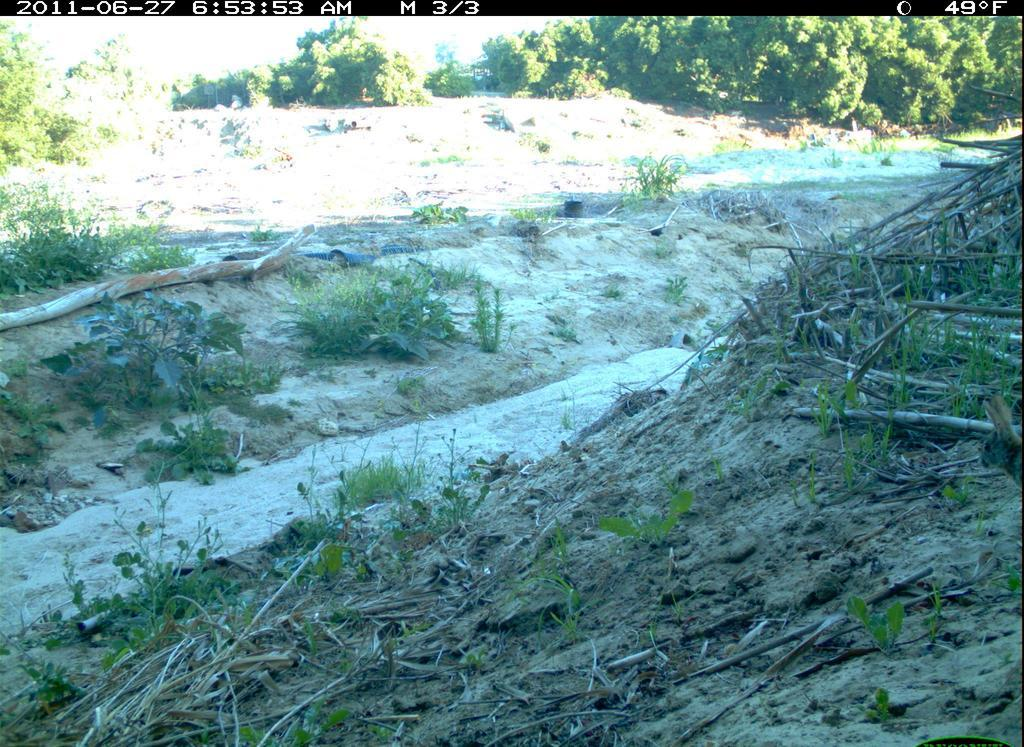rabbit: (973, 393, 1023, 501)
